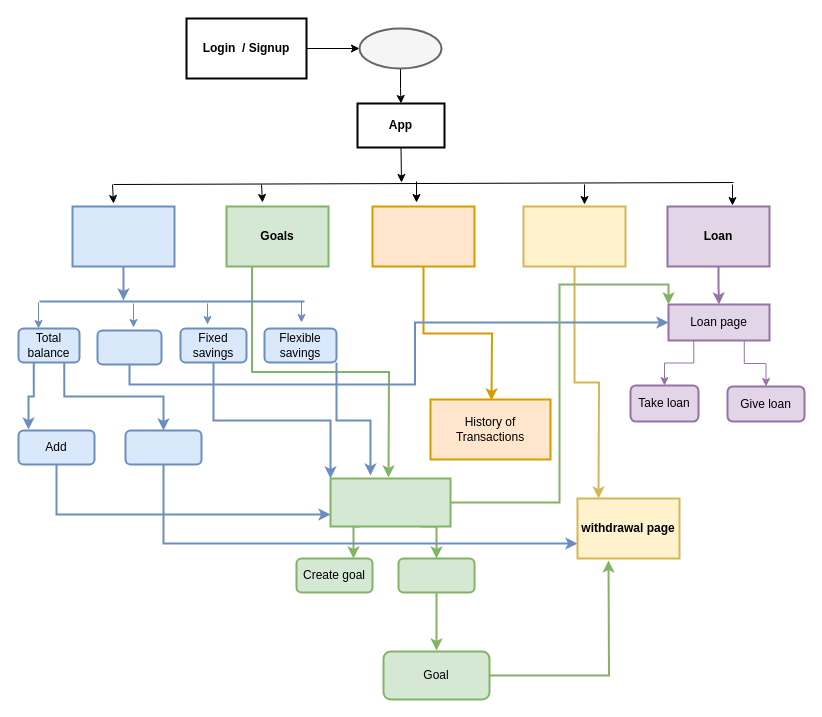
Image size: 822x717. Some labels were removed from this diagram. The centre of each missing label's shape, as x and y in pixels:
"Dashboard" goes at point (123, 236).
"Goal page" goes at point (390, 502).
"Investment" goes at point (129, 347).
"Liquidate" goes at point (574, 236).
"List of goals" goes at point (436, 575).
"Send" goes at point (163, 447).
"Transactions" goes at point (423, 236).
"Verification" goes at point (400, 48).
